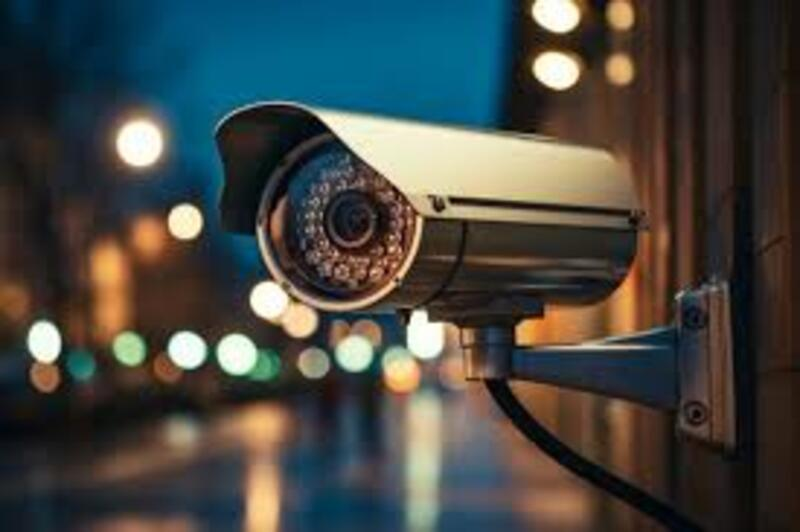bullet: (215, 124, 654, 319)
